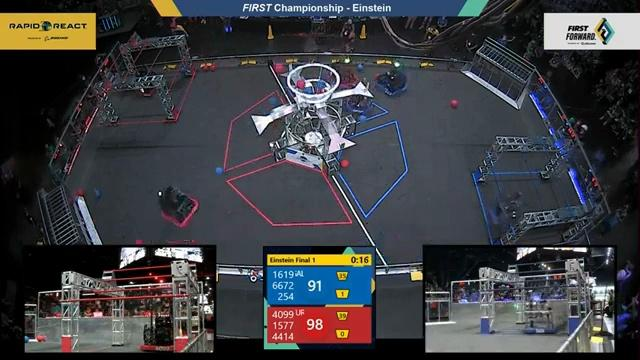robot: (156, 177, 203, 230), (140, 298, 174, 352), (484, 191, 527, 232), (373, 56, 410, 99), (343, 73, 375, 119), (131, 59, 161, 102), (522, 304, 556, 335)
